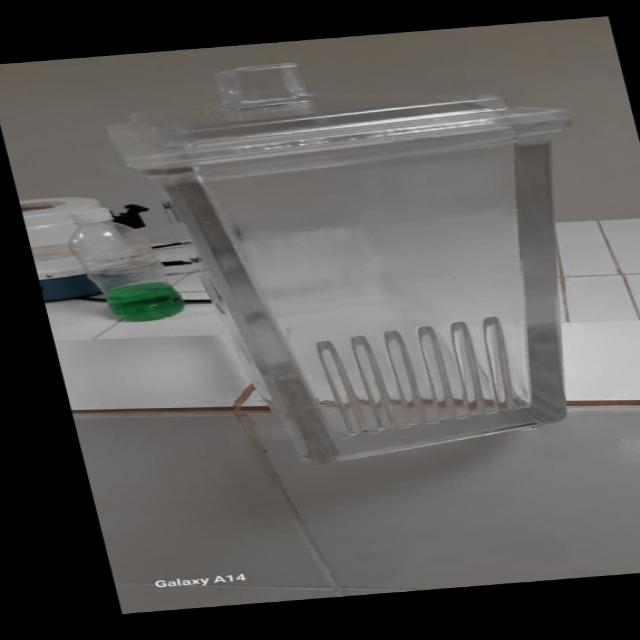TLC Tank: (81, 34, 640, 479)
